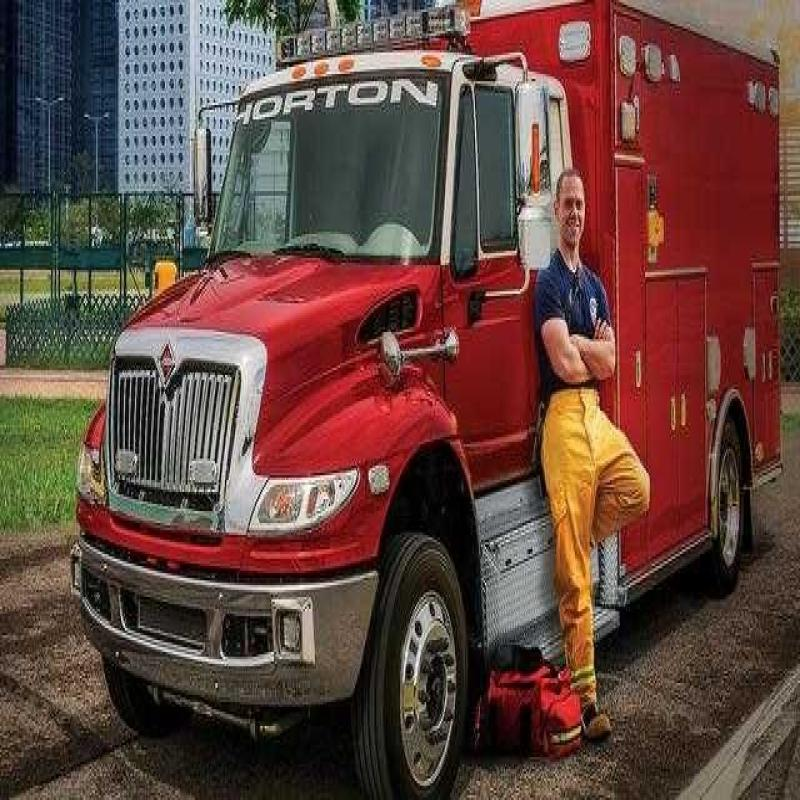AmbulanceSiren: (274, 0, 488, 55)
